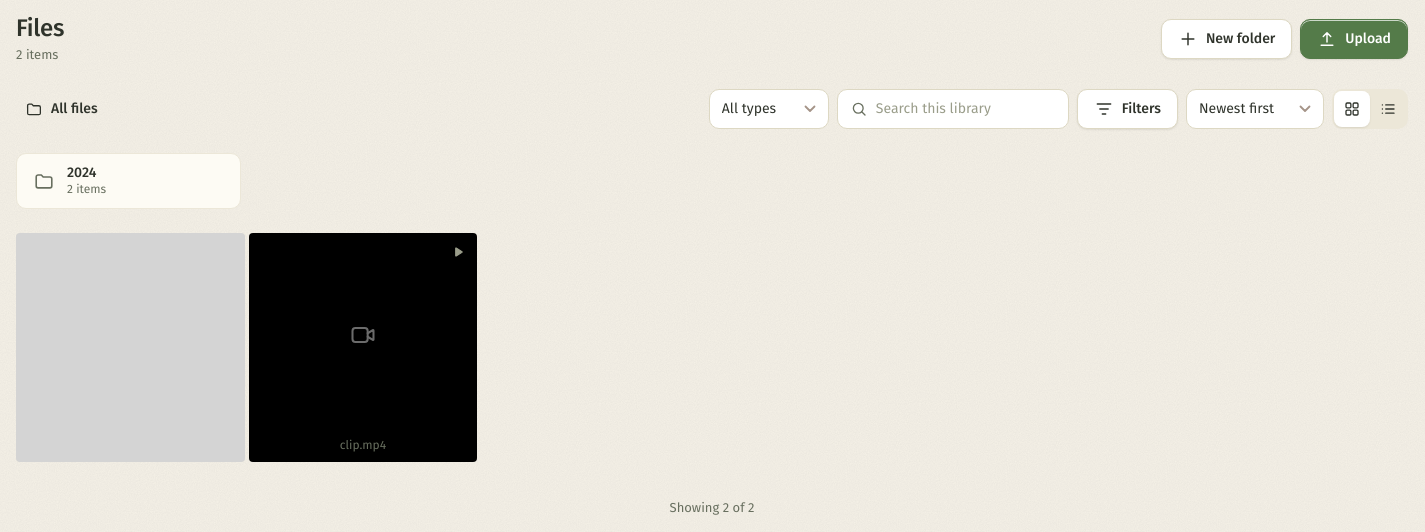
Scenario: MediaPage › searches the whole library and reports when nothing matches
Check: the element with test id "file-grid" is shown, box [16,232,477,461]
Type "sunset" into the search field labelled "Search this library". click: (966, 108)
box: [876,90,1056,128]
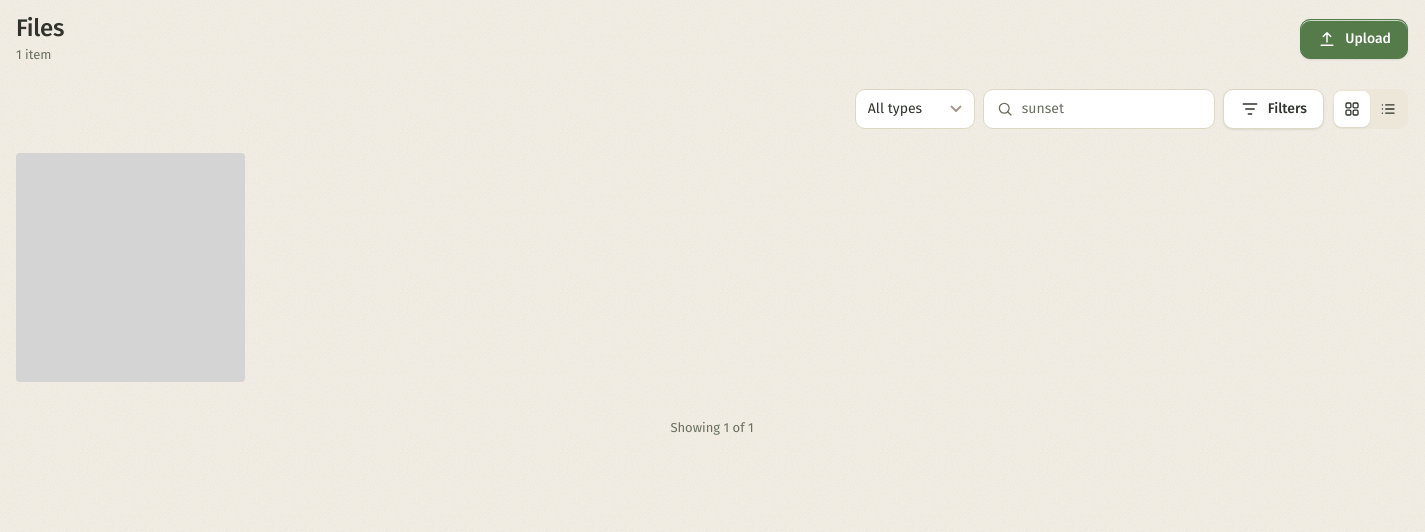
Check: the button "2024" is gone
Replace the text in the search field named "Search this library" with "zzz". click: (1112, 108)
box: [1022,90,1202,128]
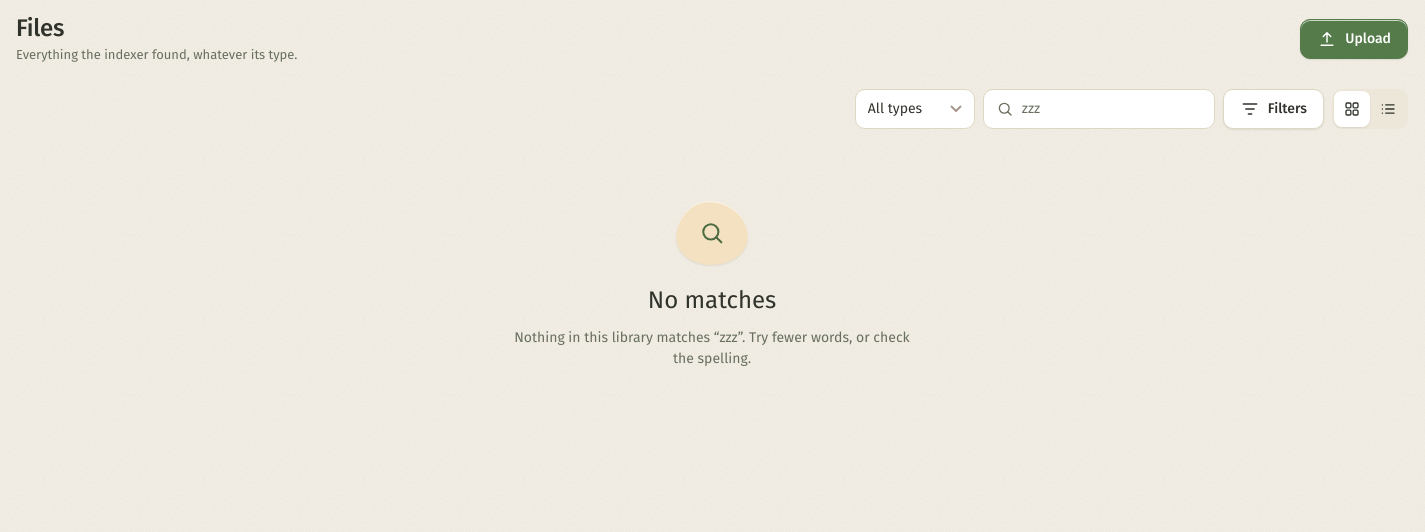
Check: the element with test id "search-empty" is shown, box [492,200,932,370]
